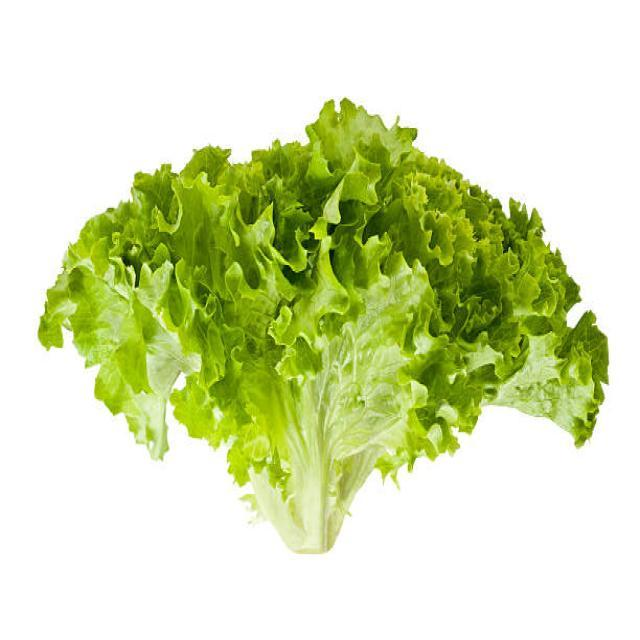Lettuce-Ready-to-Harvest: (36, 98, 613, 557)
